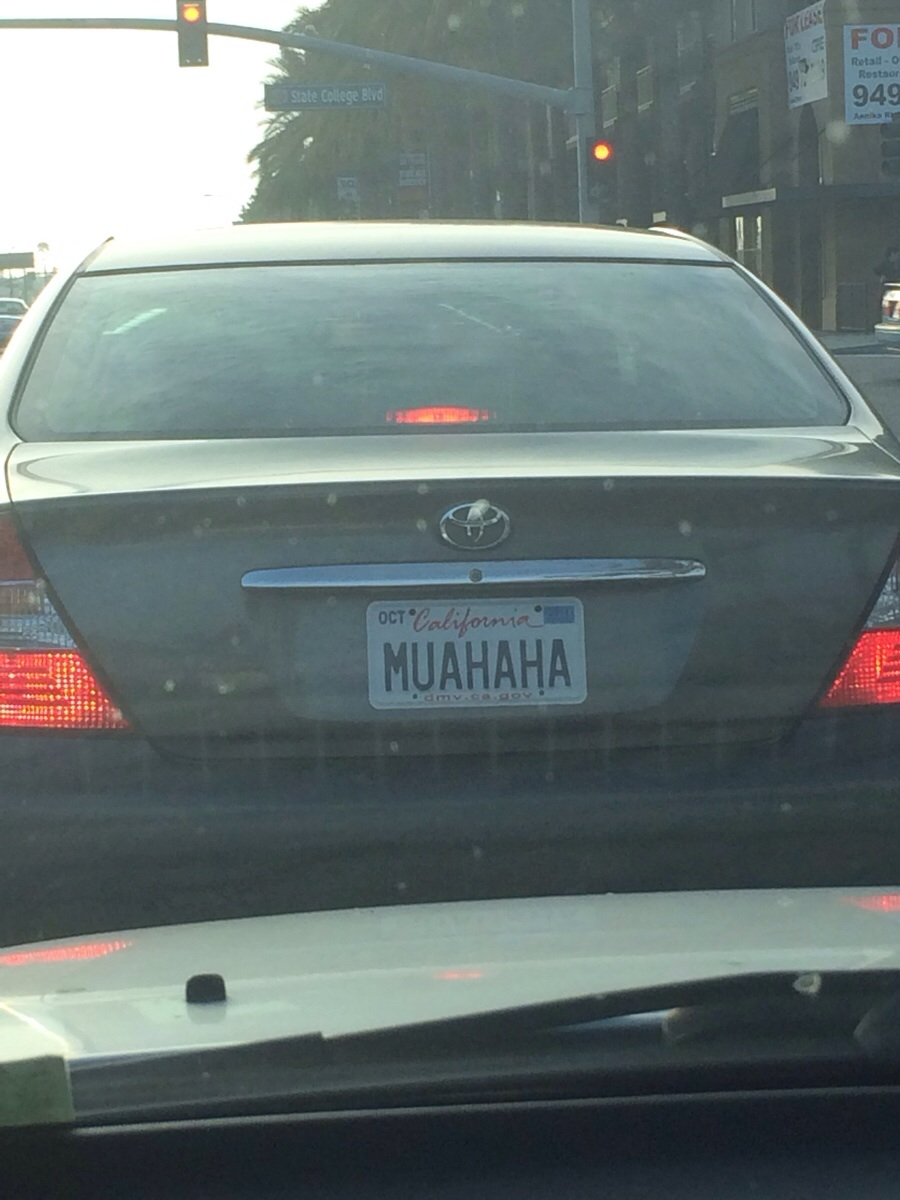license plate: (360, 595, 590, 725)
